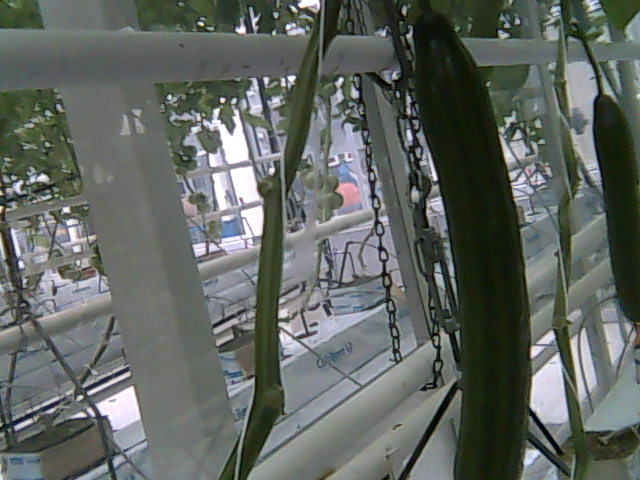concombre: (409, 6, 535, 480), (588, 88, 640, 327)
